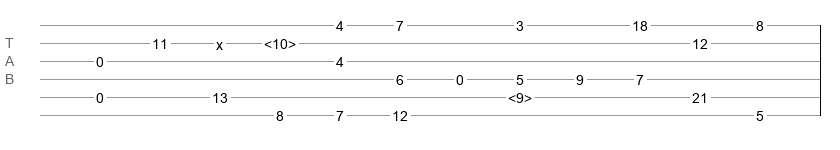0: (96, 54, 104, 64), (96, 90, 104, 100), (456, 72, 464, 82)
11: (152, 36, 168, 46)
12: (392, 108, 408, 118), (692, 36, 708, 46)
13: (212, 90, 228, 100)
18: (632, 18, 648, 28)
21: (692, 90, 708, 100)
3: (516, 18, 524, 28)
4: (336, 18, 344, 28), (336, 54, 344, 64)
5: (516, 72, 524, 82), (756, 108, 764, 118)
6: (396, 72, 404, 82)
7: (336, 108, 344, 118), (396, 18, 404, 28), (636, 72, 644, 82)
8: (276, 108, 284, 118), (756, 18, 764, 28)
9: (576, 72, 584, 82)
harmonic: (264, 36, 296, 46), (508, 90, 532, 100)
x: (216, 37, 223, 45)
